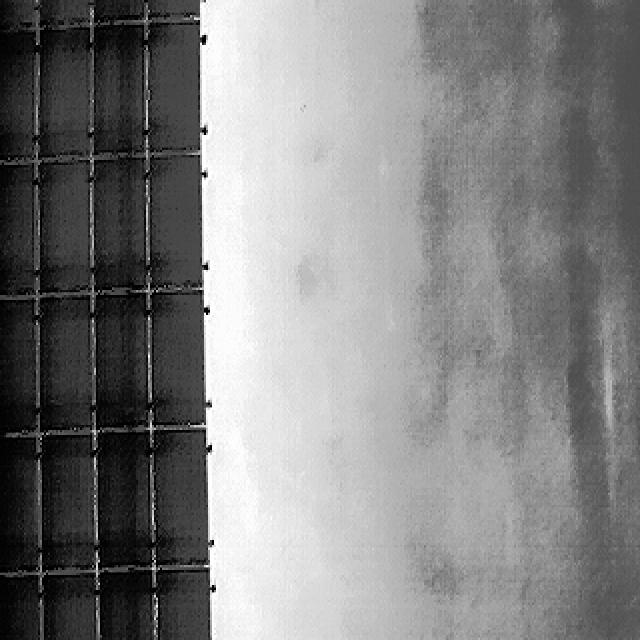PV-modules: (150, 426, 210, 568), (32, 302, 92, 440), (35, 430, 92, 570), (96, 301, 154, 438), (149, 298, 207, 434), (98, 428, 154, 567), (95, 162, 152, 298), (146, 154, 202, 291), (31, 24, 88, 156), (39, 160, 94, 296), (146, 20, 202, 153), (94, 22, 150, 154), (0, 435, 38, 575), (0, 298, 38, 436), (0, 163, 38, 299), (0, 28, 36, 160), (154, 565, 212, 640), (98, 575, 158, 640), (36, 577, 94, 640), (0, 575, 42, 640), (38, 0, 94, 28), (89, 0, 147, 25), (144, 0, 204, 20), (0, 0, 37, 30)
